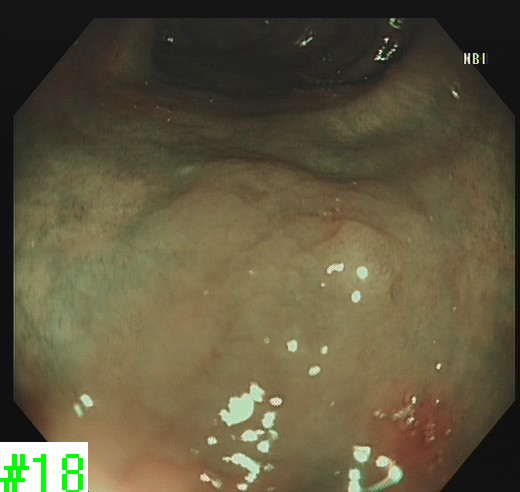adenoma: (315, 218, 398, 296)
